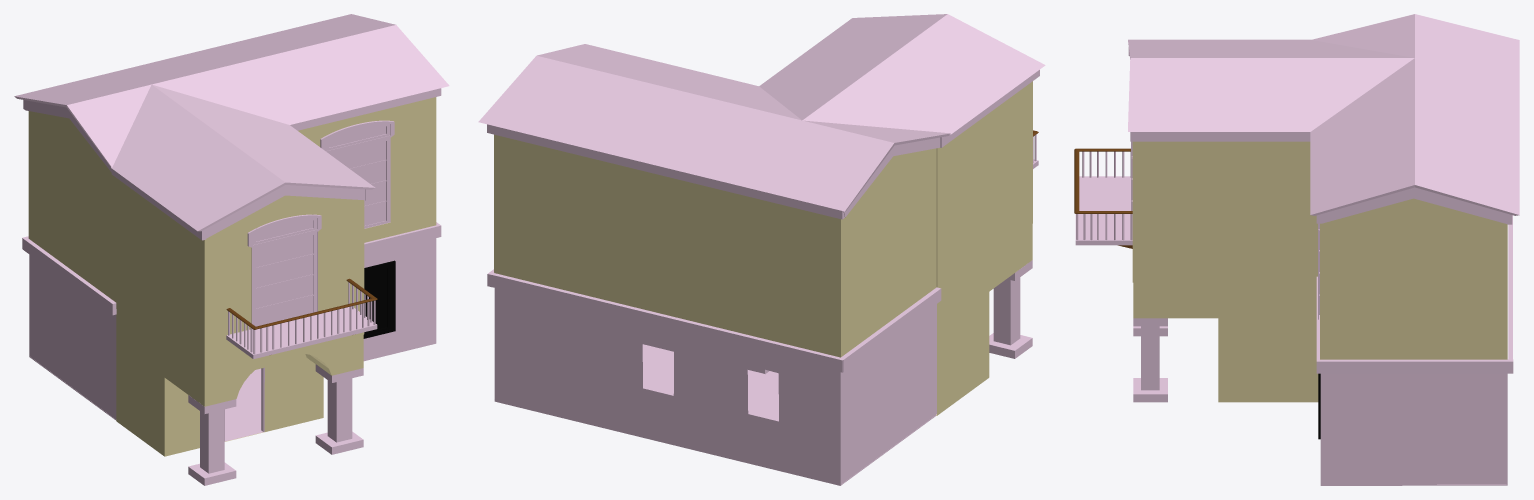
Rendered from casa.obj.
3 views of the same model, side by side, from view 1: azimuth 30°, elevation 25°; view 2: azimuth 150°, elevation 25°; view 3: azimuth 270°, elevation 25° (orthographic). The views are drawn at different scales.
Visible parts, largest first — view 1: polySurface427; view 2: polySurface427; view 3: polySurface427.
Part boxes in pixels (box(x1,y1,x2,y2)): polySurface427: box(14, 14, 449, 485); polySurface427: box(478, 14, 1045, 485); polySurface427: box(1074, 14, 1519, 485).
Bounding box in the file's own units: 8.3 × 6.69 × 8.9.
